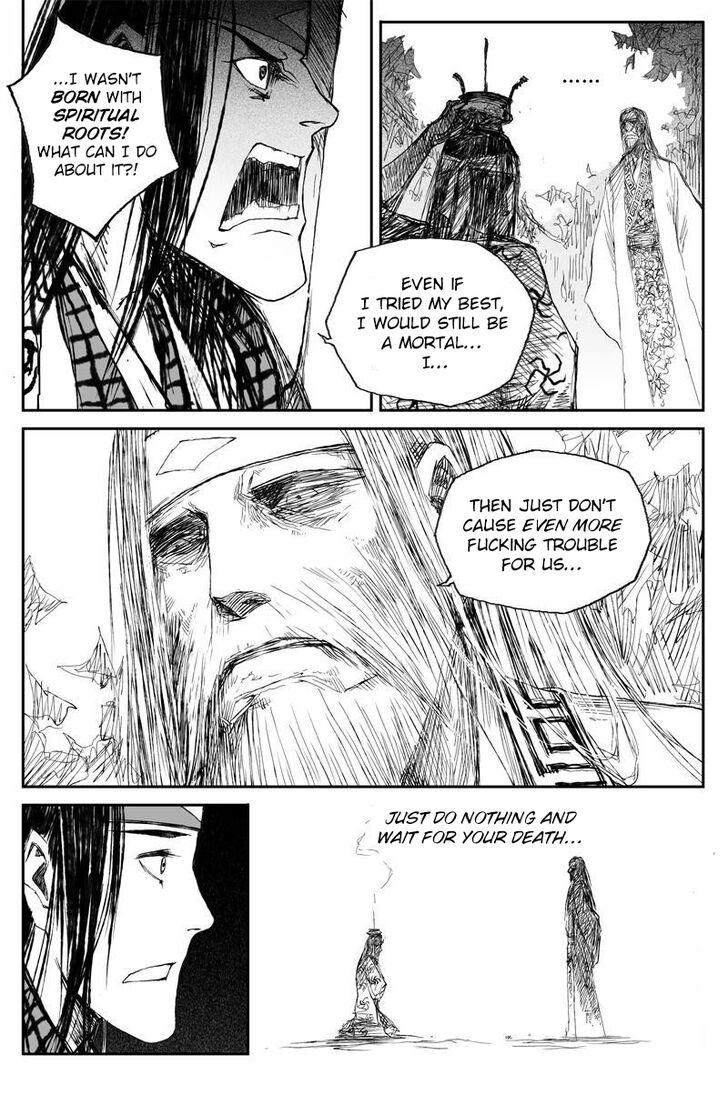Bubble: (8, 14, 184, 243), (321, 237, 537, 408), (432, 448, 653, 615)
